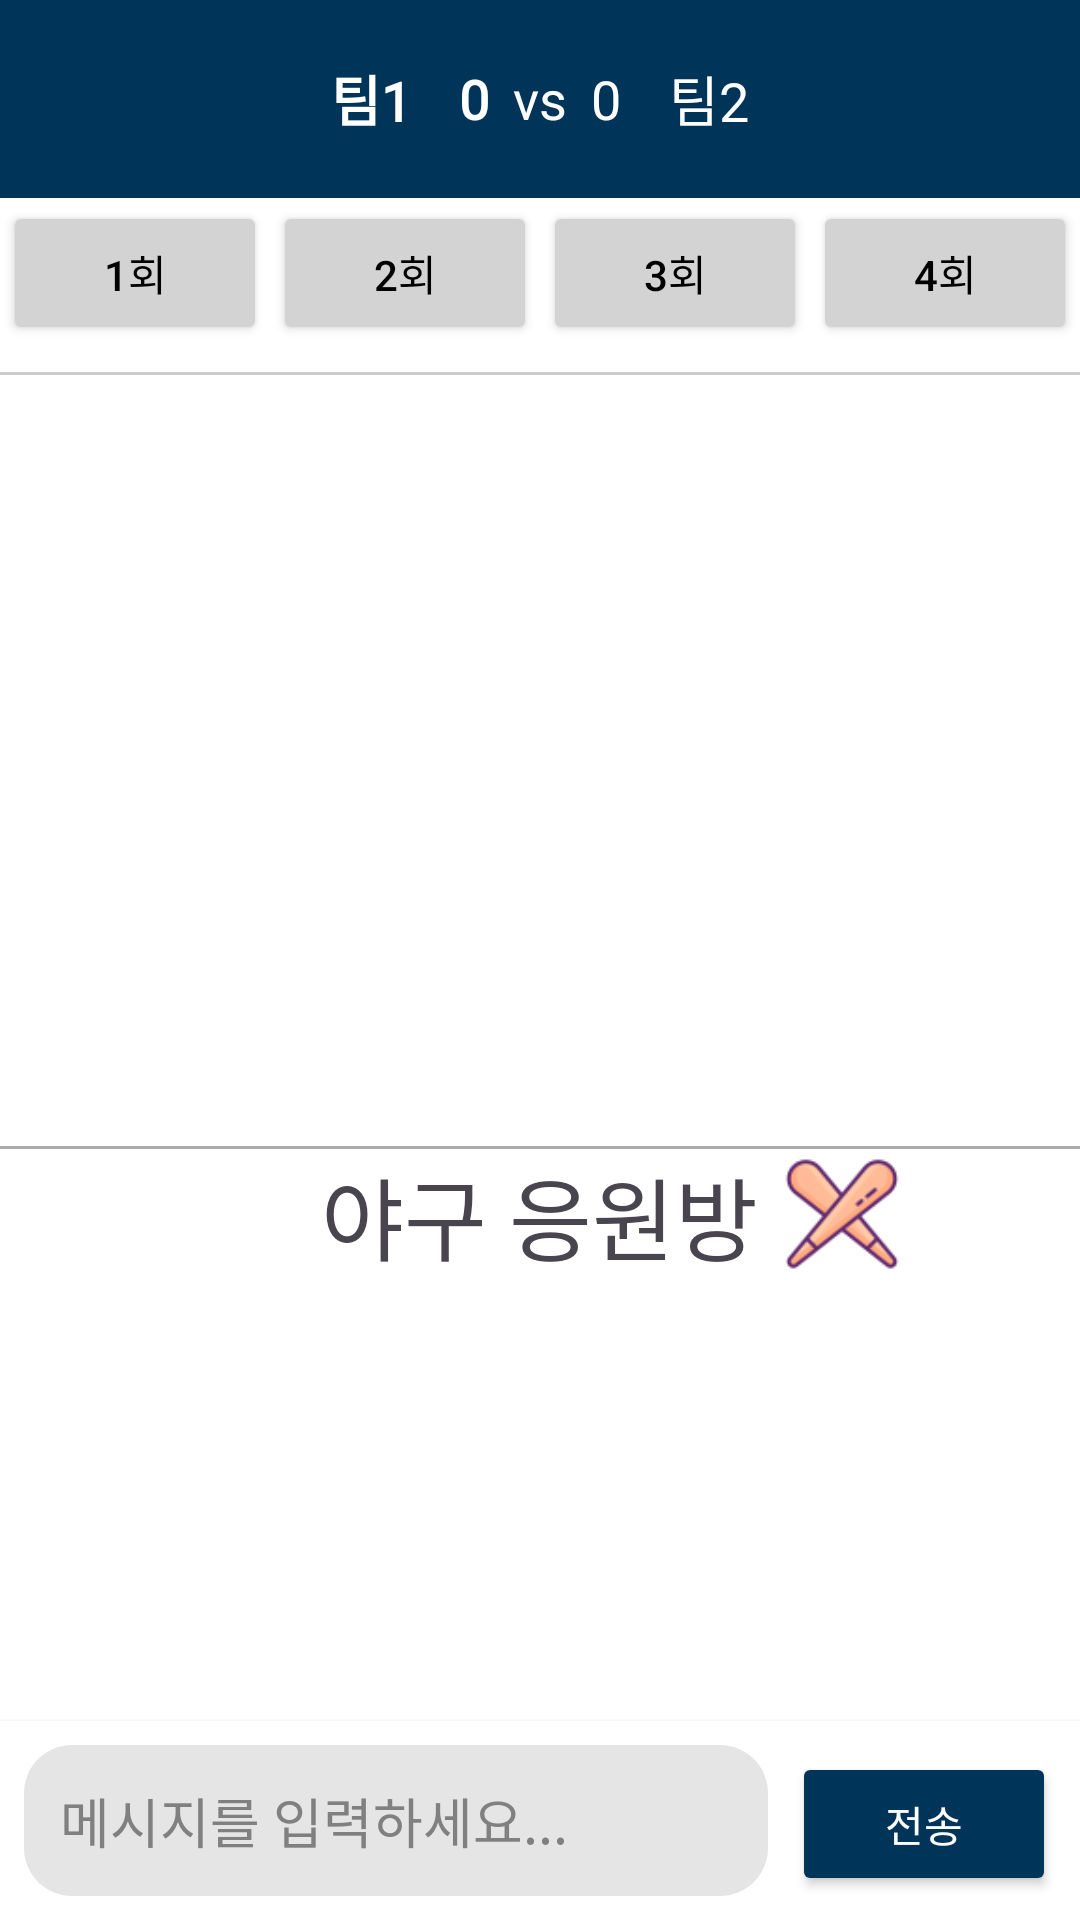

Point at icon controls on the screen. Image size 1080w x 1920h, points as (x,y).
Baseball Bat: (842,1214)
